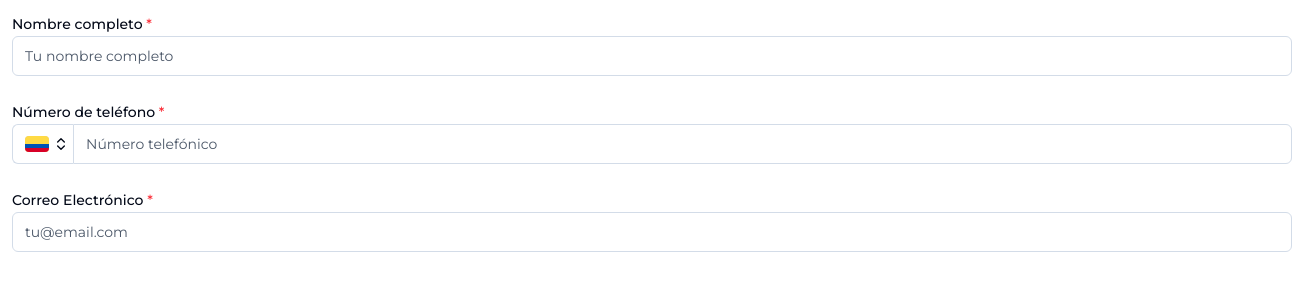
Step1_BasicInfo Component › Data Flow and User Input › updates form state when user types in name field
Type "Juan Pérez" into the field labelled "Nombre completo *" at [652, 56], box 12,36 -> 1292,76
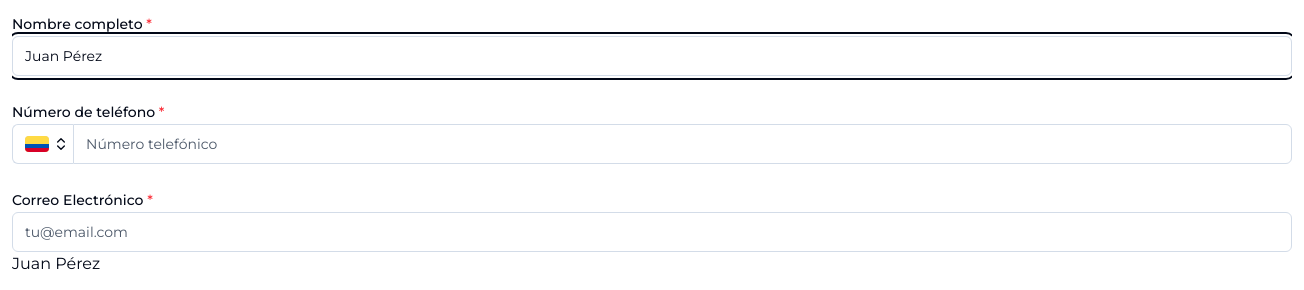
Check: the text with test id "watched-name" reads "Juan Pérez", box 12,254 -> 100,273
